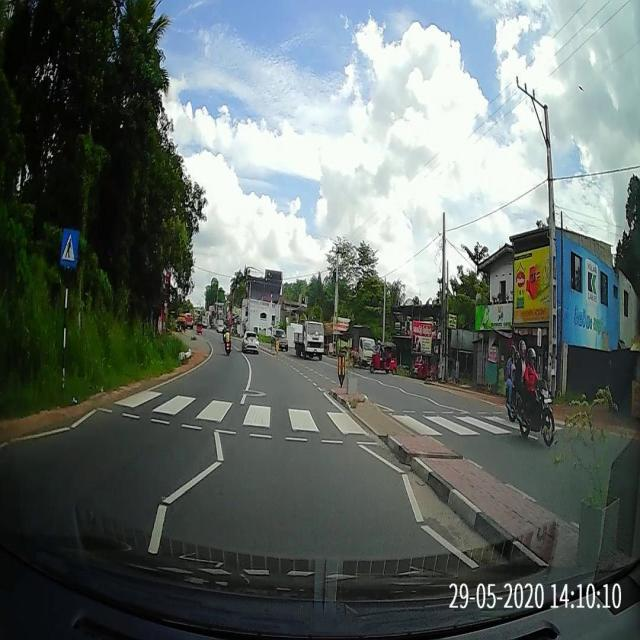Crosswalk: (90, 385, 522, 448)
